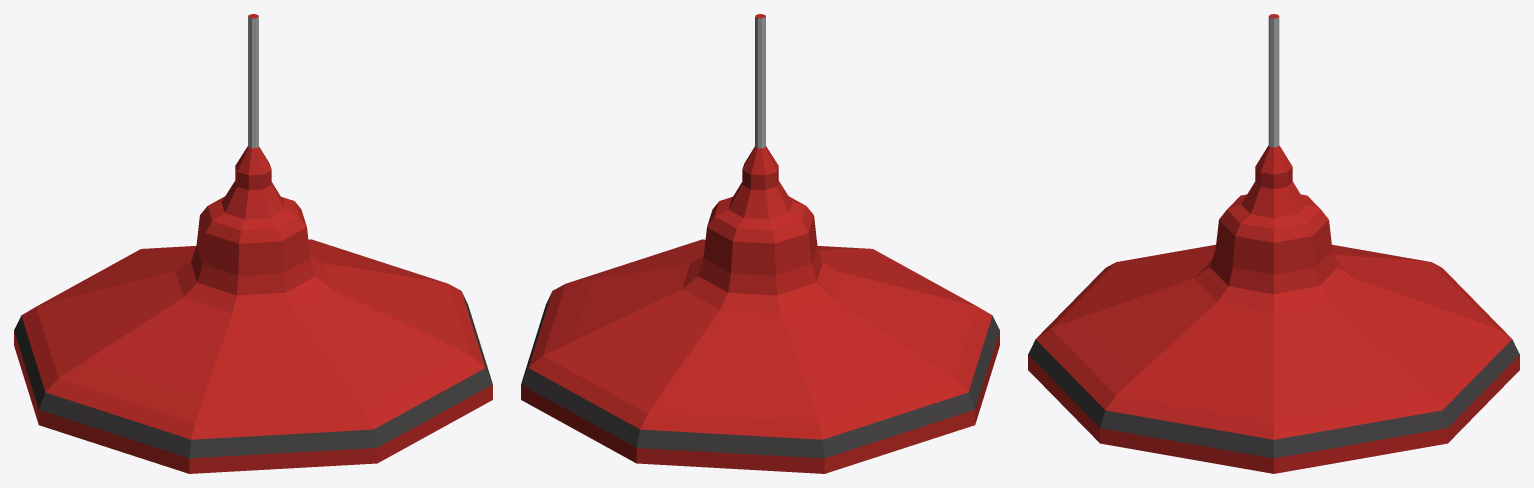
File: LampModel.fbx
The picture shows the model from 3 angles, left to right: view 1: azimuth 30°, elevation 25°; view 2: azimuth 150°, elevation 25°; view 3: azimuth 270°, elevation 25°; orthographic projection.
Parts seen in each view (by area): view 1: Lamp; view 2: Lamp; view 3: Lamp.
Boxes of the visible parts, bbox=[...] form: Lamp: bbox=[14, 14, 492, 473]; Lamp: bbox=[521, 14, 999, 473]; Lamp: bbox=[1028, 14, 1519, 473].
Size of the model in its own units: 144 by 116 by 144.
